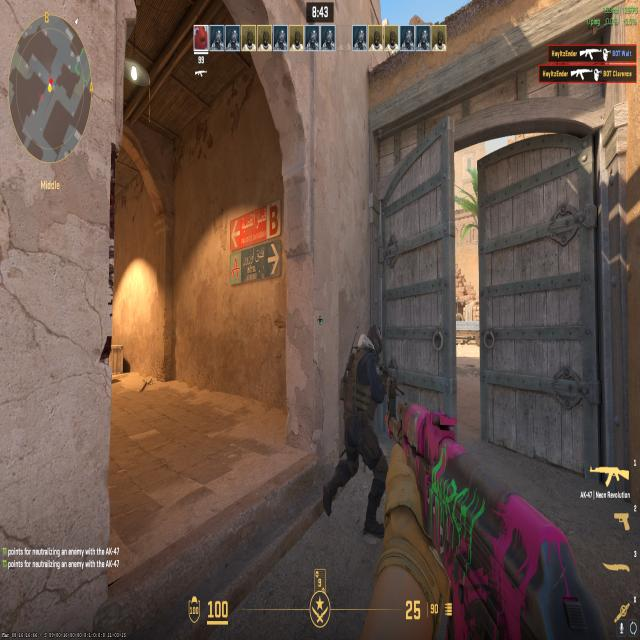ct: (321, 321, 389, 545)
